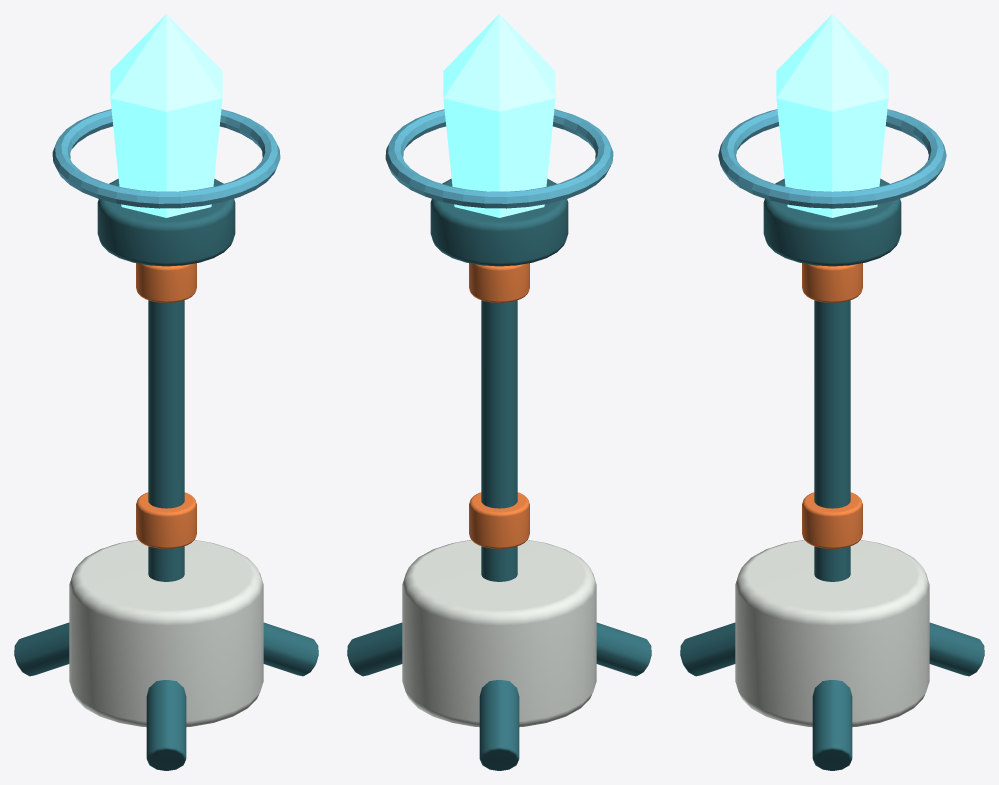
File: Science_Beacon.glb
The picture shows the model from 3 angles, left to right: view 1: azimuth 30°, elevation 25°; view 2: azimuth 150°, elevation 25°; view 3: azimuth 270°, elevation 25°; orthographic projection.
Parts seen in each view (by area): view 1: Beacon equipment base, Faceted crystal, Beacon mast, Crystal cradle, Science scan halo, Beacon foot.002, Orange mast collar, Beacon foot, Beacon foot.001, Orange mast collar.001; view 2: Beacon equipment base, Faceted crystal, Beacon mast, Crystal cradle, Science scan halo, Beacon foot.001, Orange mast collar, Beacon foot, Beacon foot.002, Orange mast collar.001; view 3: Beacon equipment base, Faceted crystal, Beacon mast, Crystal cradle, Science scan halo, Beacon foot, Orange mast collar, Beacon foot.001, Beacon foot.002, Orange mast collar.001.
Boxes of the visible parts, x1,y1,x2,y2 form: Beacon equipment base: (69,540,263,727); Faceted crystal: (110,14,222,217); Beacon mast: (148,300,184,581); Crystal cradle: (97,178,235,266); Science scan halo: (52,109,280,208); Beacon foot.002: (146,680,186,770); Orange mast collar: (136,492,196,548); Beacon foot: (263,622,318,676); Beacon foot.001: (14,622,69,676); Orange mast collar.001: (136,263,196,302); Beacon equipment base: (402,540,596,727); Faceted crystal: (443,14,555,217); Beacon mast: (481,300,517,581); Crystal cradle: (430,178,568,266); Science scan halo: (385,109,613,208); Beacon foot.001: (479,680,519,770); Orange mast collar: (469,492,529,548); Beacon foot: (347,622,402,676); Beacon foot.002: (596,622,651,676); Orange mast collar.001: (469,263,529,302); Beacon equipment base: (735,540,929,727); Faceted crystal: (776,14,888,217); Beacon mast: (814,300,850,581); Crystal cradle: (763,178,901,266); Science scan halo: (718,109,946,208); Beacon foot: (812,680,852,770); Orange mast collar: (802,492,862,548); Beacon foot.001: (929,622,984,676); Beacon foot.002: (680,622,735,676); Orange mast collar.001: (802,263,862,302).
Size of the model in its own units: 0.7033 by 1.89 by 0.752.
